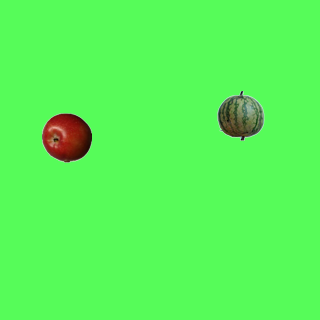Apple Braeburn: (41, 112, 91, 162)
Watermelon: (215, 90, 265, 140)
